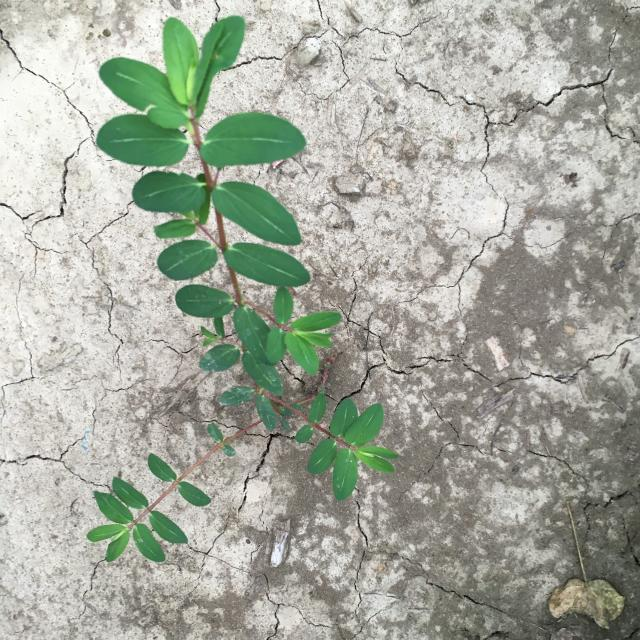SpottedSpurge: (86, 16, 400, 562)
